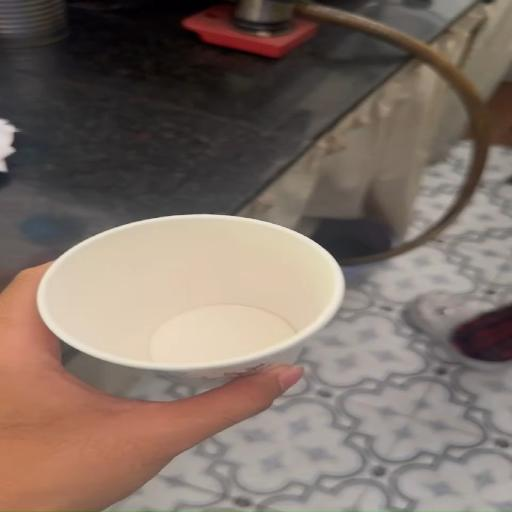Ly_giay: (36, 214, 345, 387)
